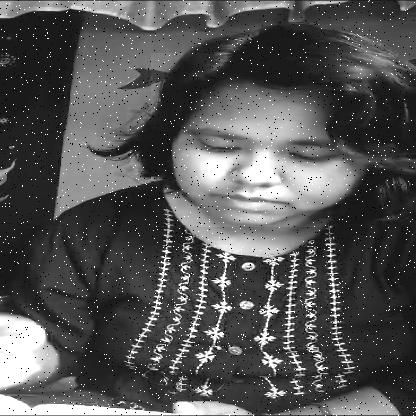Normal: (151, 54, 394, 228)
